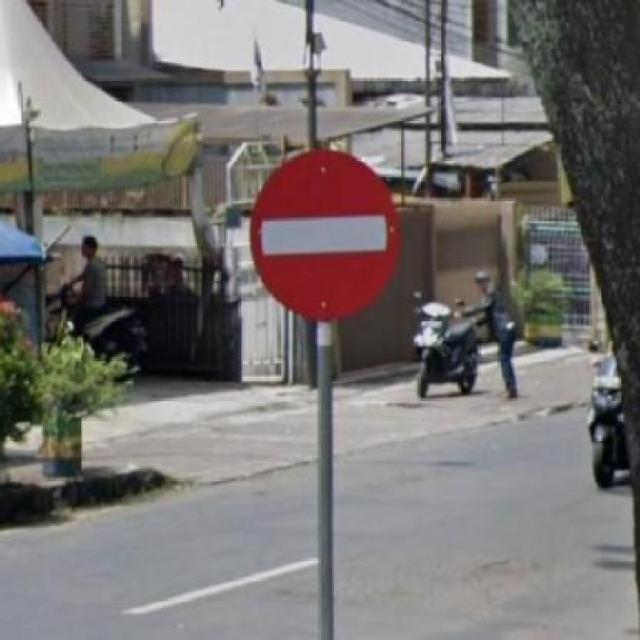no entry: (246, 146, 403, 322)
